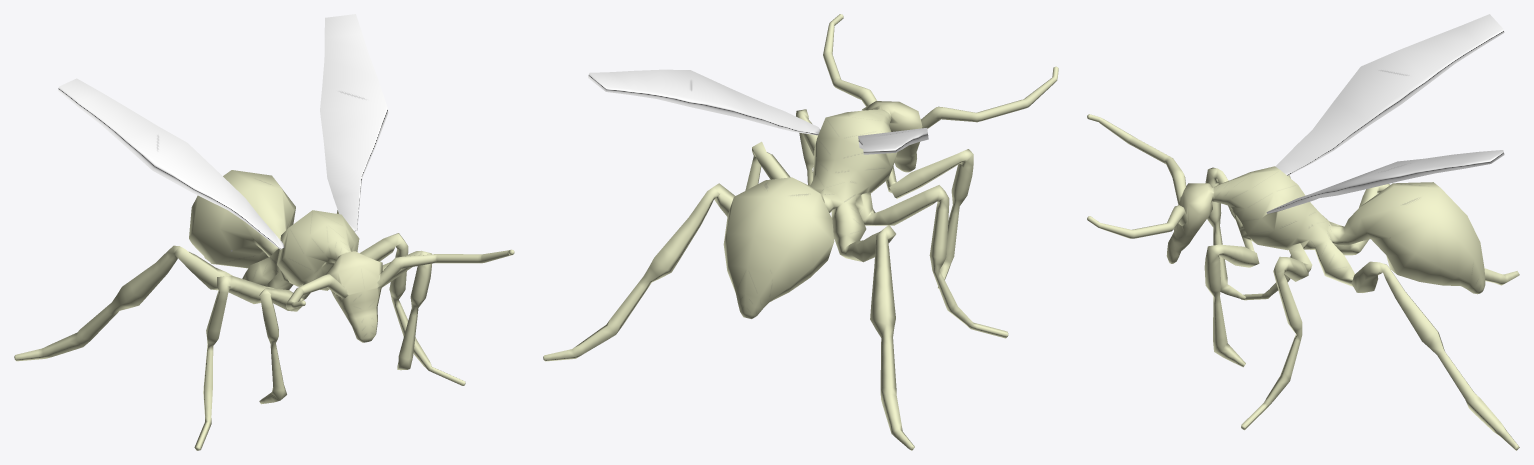
The model's file is wasp.fbx.
The picture shows the model from 3 angles, left to right: view 1: azimuth 30°, elevation 25°; view 2: azimuth 150°, elevation 25°; view 3: azimuth 270°, elevation 25°; orthographic projection. The views are drawn at different scales.
Visible parts, largest first — view 1: unamed; view 2: unamed; view 3: unamed.
Boxes of the visible parts, x1,y1,x2,y2 form: unamed: (14,14,514,450); unamed: (543,14,1058,450); unamed: (1087,14,1519,450).
Bounding box in the file's own units: 1.19 × 0.8839 × 1.24.
Materials: 1 (1 with a texture image).
